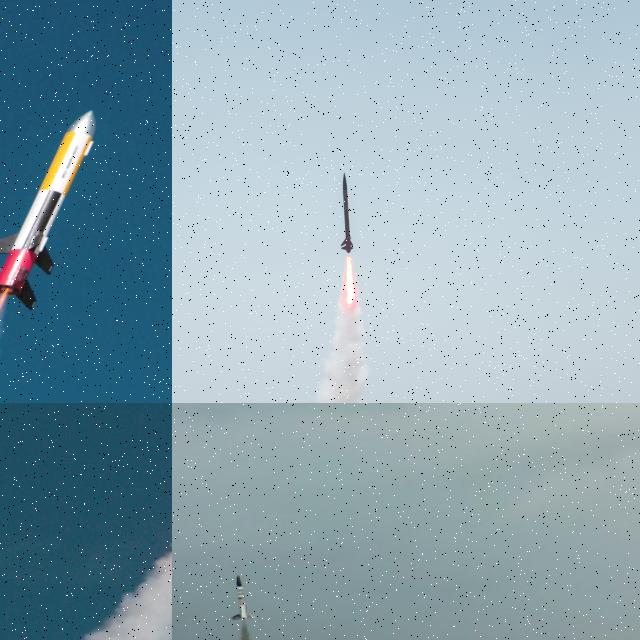Rocket: (0, 108, 98, 312), (340, 172, 354, 254), (232, 574, 256, 620)
